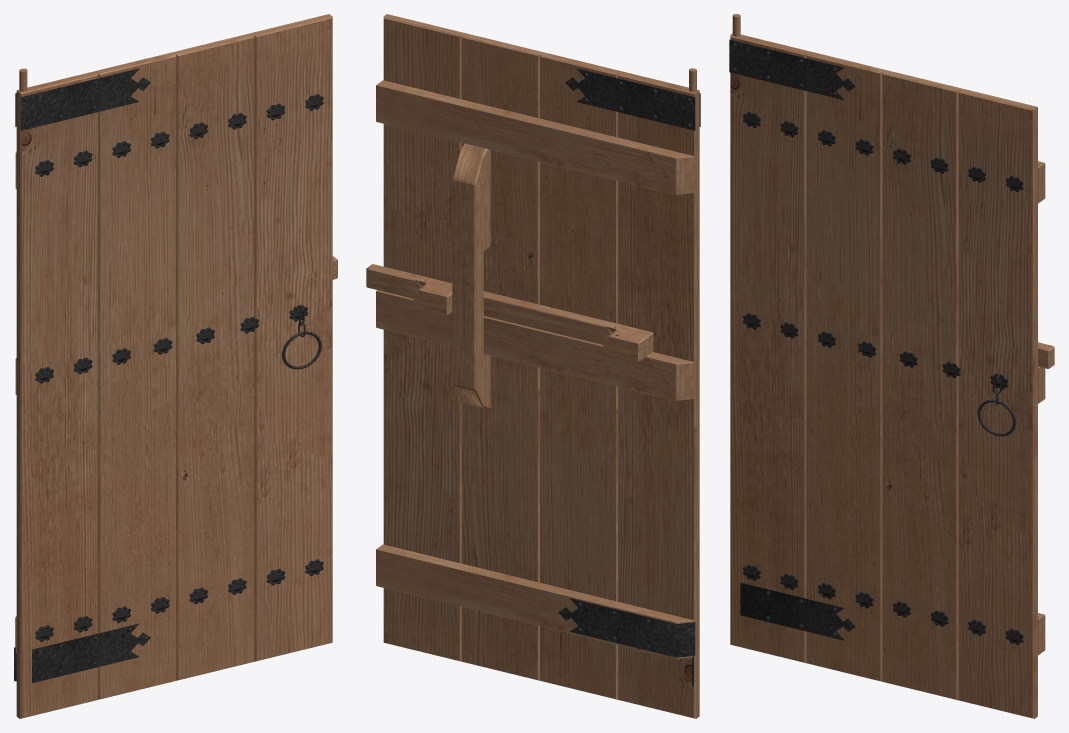
The model's file is SM_Yeonkyung_Jangrakmoon_Door_B_001.fbx.
3 views of the same model, side by side, from view 1: azimuth 30°, elevation 25°; view 2: azimuth 150°, elevation 25°; view 3: azimuth 330°, elevation 25° (orthographic). The views are drawn at different scales.
Parts seen in each view (by area): view 1: SM_Yeonkyung_Jangrakmoon_Door_B_001; view 2: SM_Yeonkyung_Jangrakmoon_Door_B_001; view 3: SM_Yeonkyung_Jangrakmoon_Door_B_001.
Boxes of the visible parts, x1=… form: SM_Yeonkyung_Jangrakmoon_Door_B_001: x1=14, y1=14, x2=337, y2=718; SM_Yeonkyung_Jangrakmoon_Door_B_001: x1=366, y1=14, x2=700, y2=718; SM_Yeonkyung_Jangrakmoon_Door_B_001: x1=729, y1=14, x2=1054, y2=718.
Bounding box in the file's own units: 145 × 278 × 19.57.
